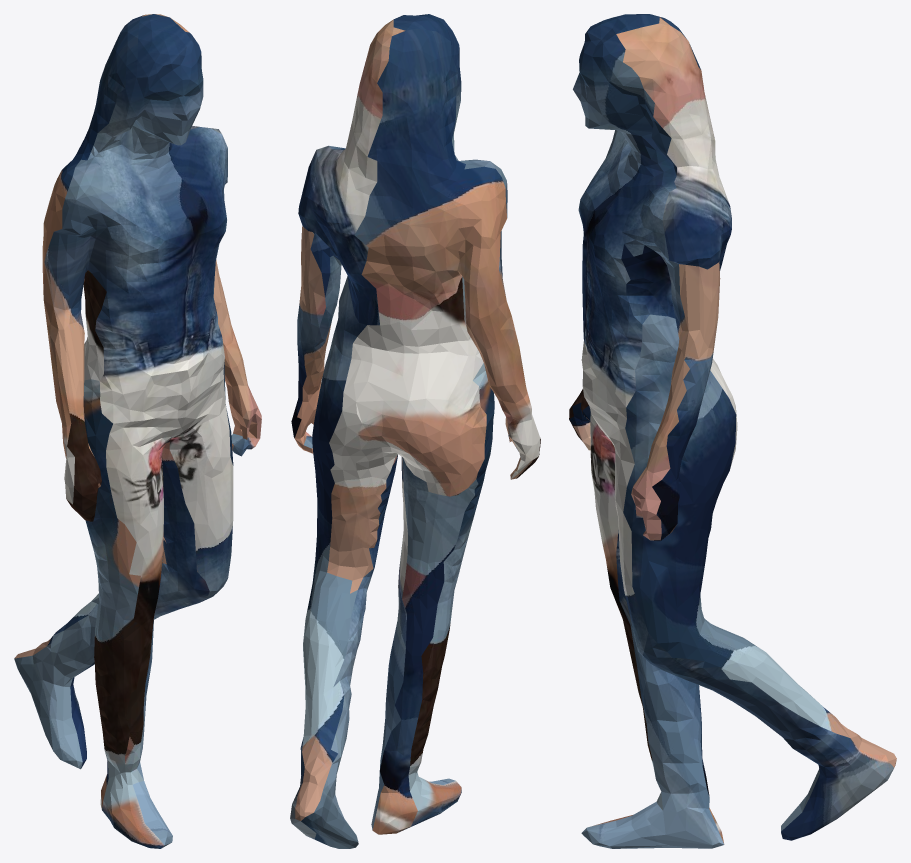
Rendered from girl_14.glb.
The picture shows the model from 3 angles, left to right: view 1: azimuth 30°, elevation 25°; view 2: azimuth 150°, elevation 25°; view 3: azimuth 270°, elevation 25°; orthographic projection. The views are drawn at different scales.
Visible parts, largest first — view 1: girl_14; view 2: girl_14; view 3: girl_14.
Part boxes in pixels (x1,y1,x2,y2): girl_14: (14,14,261,848); girl_14: (290,14,540,848); girl_14: (569,14,896,848).
Size of the model in its own units: 0.4485 by 1.58 by 0.5612.
1 material, 1 textured.
